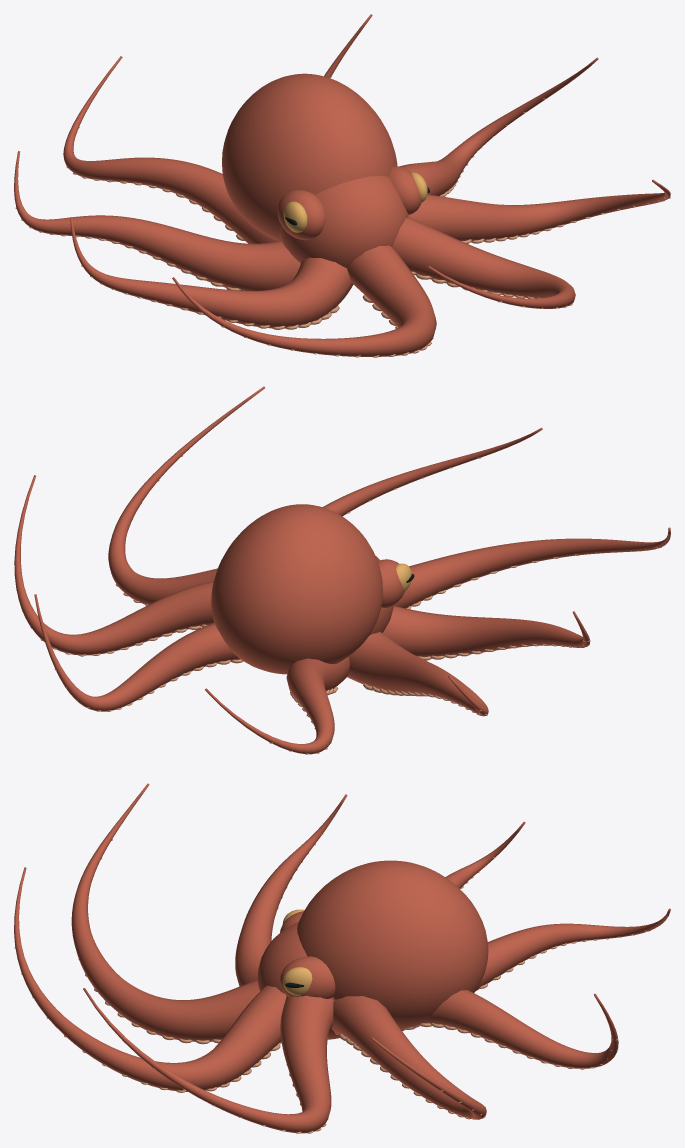
The model's file is octopus.glb.
The picture shows the model from 3 angles, top to bottom: view 1: azimuth 30°, elevation 25°; view 2: azimuth 150°, elevation 25°; view 3: azimuth 270°, elevation 25°; orthographic projection. The views are drawn at different scales.
Visible parts, largest first — view 1: OctopusSkin, Suckers, Iris; view 2: OctopusSkin, Suckers; view 3: OctopusSkin, Suckers, Iris.
Part boxes in pixels (bbox=[...]): OctopusSkin: bbox=[14, 14, 670, 356]; Suckers: bbox=[15, 77, 670, 357]; Iris: bbox=[283, 172, 427, 232]; OctopusSkin: bbox=[14, 386, 670, 754]; Suckers: bbox=[16, 455, 661, 754]; OctopusSkin: bbox=[14, 783, 670, 1133]; Suckers: bbox=[14, 833, 650, 1133]; Iris: bbox=[282, 909, 312, 995].
Size of the model in its own units: 6.39 by 2.05 by 6.75.
